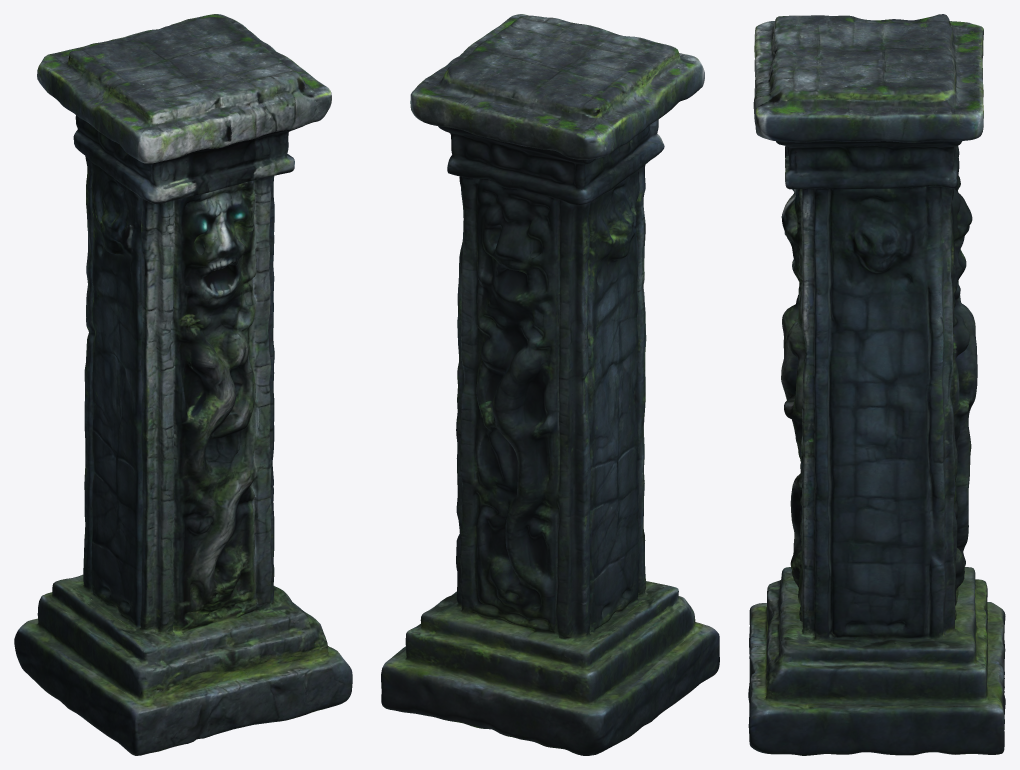
The model's file is scatter_04.glb.
3 views of the same model, side by side, from view 1: azimuth 30°, elevation 25°; view 2: azimuth 150°, elevation 25°; view 3: azimuth 270°, elevation 25° (orthographic). The views are drawn at different scales.
Size of the model in its own units: 0.7276 by 2 by 0.7171.
1 material, 1 textured.
